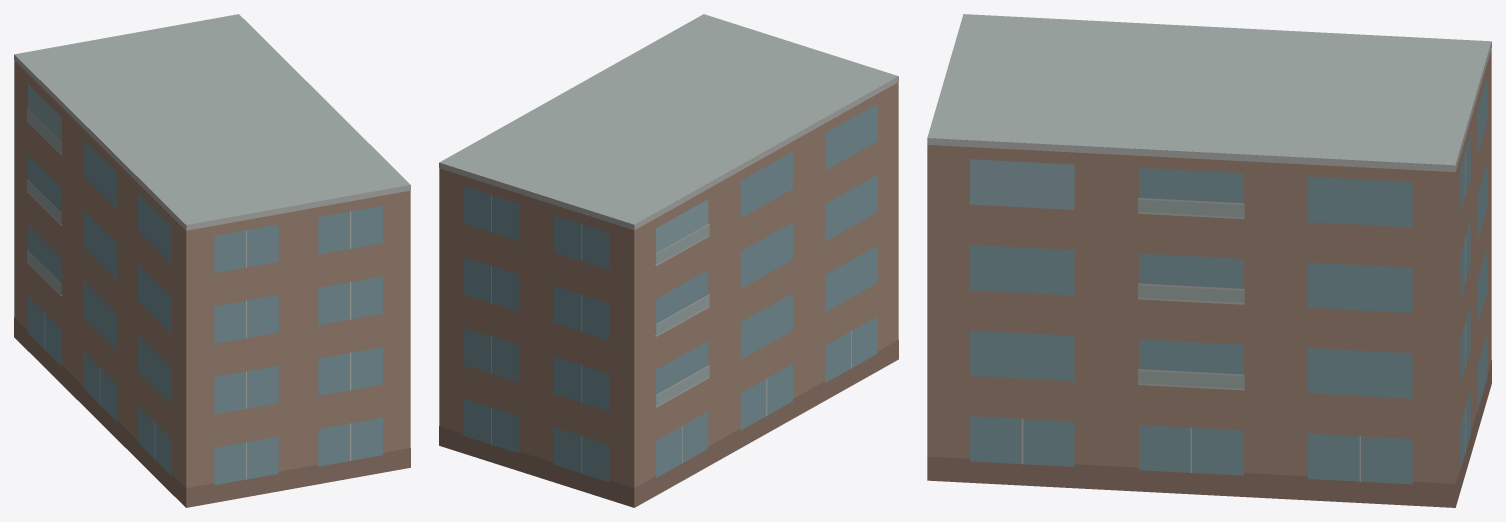
Rendered from survey-upis-32802833.glb.
The picture shows the model from 3 angles, left to right: view 1: azimuth 30°, elevation 25°; view 2: azimuth 150°, elevation 25°; view 3: azimuth 270°, elevation 25°; orthographic projection. The views are drawn at different scales.
Visible parts, largest first — view 1: survey-upis-32802833.tmp; view 2: survey-upis-32802833.tmp; view 3: survey-upis-32802833.tmp.
Boxes of the visible parts, x1=… form: survey-upis-32802833.tmp: x1=14, y1=14, x2=410, y2=507; survey-upis-32802833.tmp: x1=439, y1=14, x2=898, y2=507; survey-upis-32802833.tmp: x1=927, y1=14, x2=1491, y2=507.
Size of the model in its own units: 11.57 by 12.2 by 18.23.
